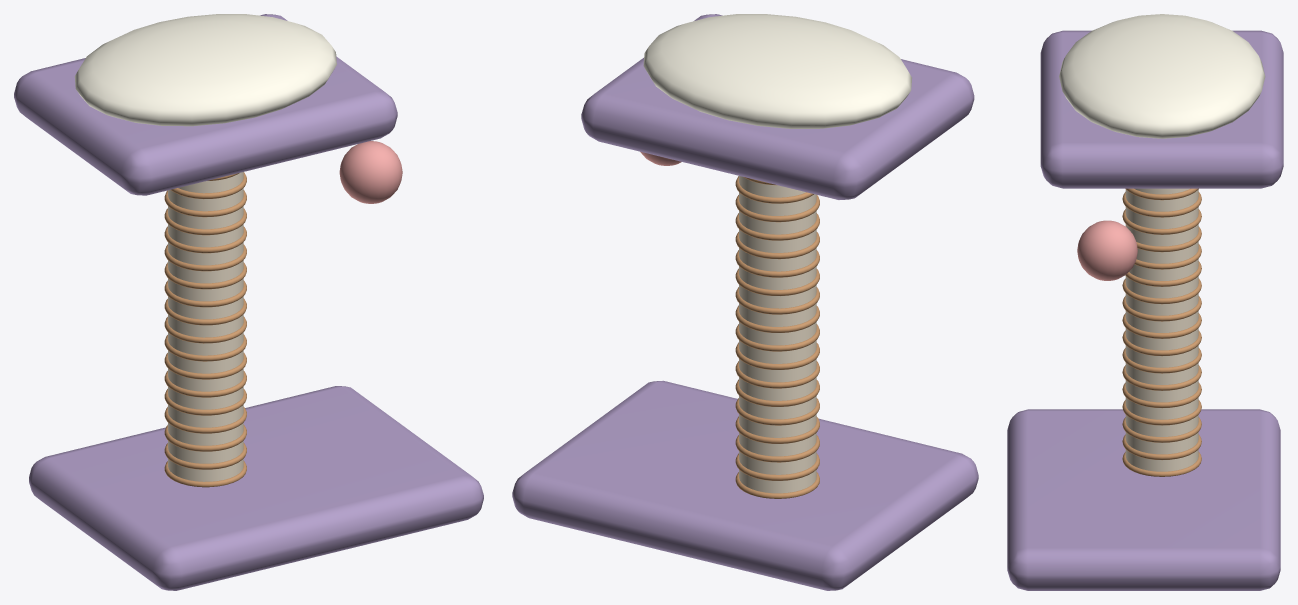
Rendered from toy-scratchPostPurple.glb.
The picture shows the model from 3 angles, left to right: view 1: azimuth 30°, elevation 25°; view 2: azimuth 150°, elevation 25°; view 3: azimuth 270°, elevation 25°; orthographic projection. The views are drawn at different scales.
Visible parts, largest first — view 1: Cat tree base, Upper perch, Cushion, Sisal post, Dangling toy, Rope ring.004, Rope ring.005, Rope ring.007, Rope ring.010, Rope ring.003, Rope ring.006, Rope ring.009 (+8 smaller); view 2: Cat tree base, Upper perch, Cushion, Sisal post, Rope ring.012, Rope ring.014, Rope ring.010, Rope ring.006, Rope ring.008, Rope ring.002, Rope ring.004, Rope ring.001 (+8 smaller); view 3: Cat tree base, Cushion, Upper perch, Sisal post, Dangling toy, Rope ring.003, Rope ring.006, Rope ring.009, Rope ring.015, Rope ring.002, Rope ring.005, Rope ring.014 (+10 smaller).
Part boxes in pixels (x1,y1,x2,y2): Cat tree base: (29, 386, 483, 590); Upper perch: (14, 14, 397, 195); Cushion: (74, 14, 336, 126); Sisal post: (168, 172, 243, 481); Dangling toy: (339, 141, 402, 203); Rope ring.004: (164, 389, 246, 415); Rope ring.005: (164, 371, 246, 397); Rope ring.007: (164, 334, 246, 361); Rope ring.010: (164, 280, 246, 307); Rope ring.003: (164, 407, 246, 433); Rope ring.006: (164, 353, 246, 379); Rope ring.009: (164, 298, 246, 325); Cat tree base: (512, 380, 978, 590); Upper perch: (581, 14, 974, 199); Cushion: (643, 14, 911, 128); Sisal post: (739, 176, 816, 493); Rope ring.012: (735, 250, 819, 277); Rope ring.014: (735, 213, 819, 240); Rope ring.010: (735, 287, 819, 314); Rope ring.006: (735, 361, 819, 388); Rope ring.008: (735, 324, 819, 351); Rope ring.002: (735, 435, 819, 462); Rope ring.004: (735, 398, 819, 425); Rope ring.001: (735, 453, 819, 480); Cat tree base: (1007, 409, 1280, 590); Cushion: (1059, 14, 1265, 138); Upper perch: (1040, 30, 1283, 188); Sisal post: (1125, 188, 1198, 471); Dangling toy: (1077, 220, 1137, 280); Rope ring.003: (1122, 400, 1201, 425); Rope ring.006: (1122, 348, 1201, 373); Rope ring.009: (1122, 296, 1201, 321); Rope ring.015: (1122, 192, 1201, 217); Rope ring.002: (1122, 417, 1201, 442); Rope ring.005: (1122, 365, 1201, 390); Rope ring.014: (1122, 209, 1201, 234).
Bounding box in the file's own units: 1.25 × 1.64 × 0.91.
